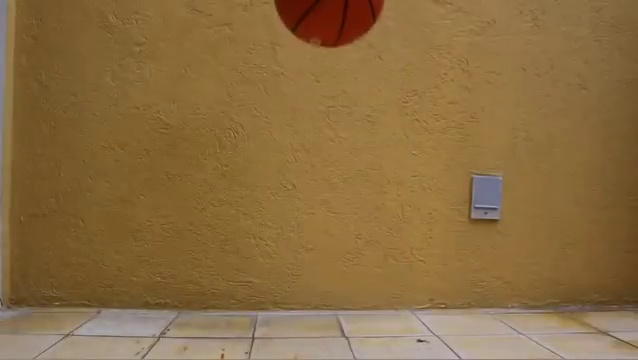ball: (271, 2, 386, 47)
